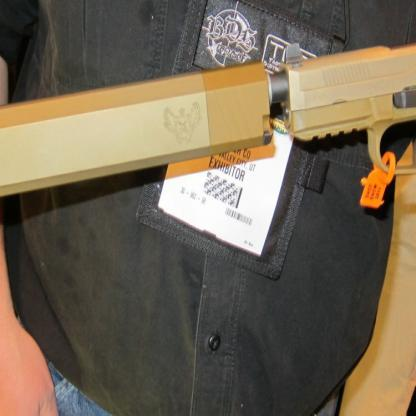gun: (268, 0, 416, 285)
